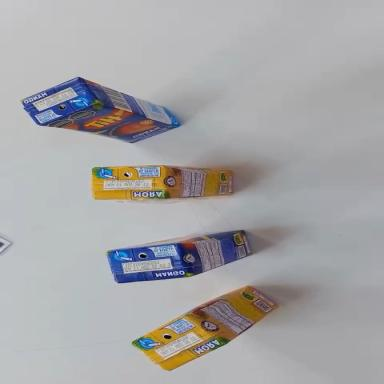HIT-MANGO: (17, 65, 186, 159), (106, 227, 254, 288)
HIT-MORA: (130, 276, 283, 381), (92, 164, 234, 203)
cara_F: (40, 89, 176, 163), (109, 230, 243, 250)
